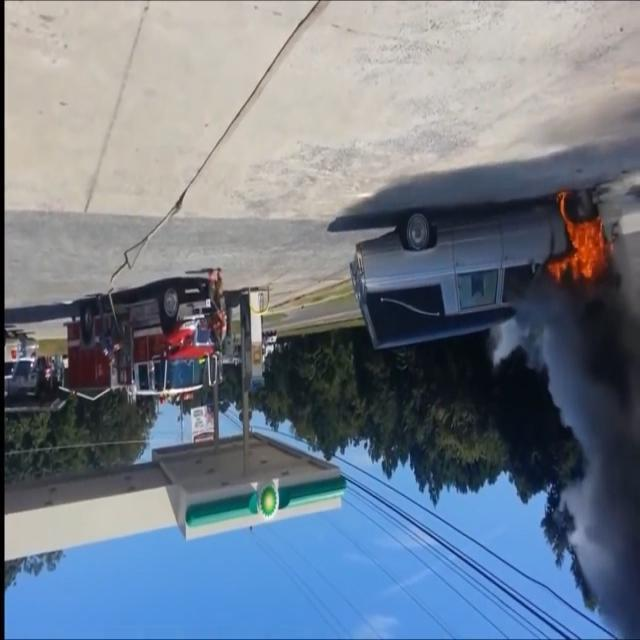fire: (547, 193, 614, 302)
